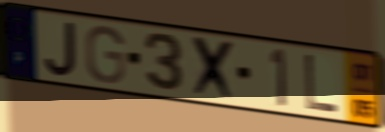1: (268, 46, 289, 110)
3: (141, 31, 186, 95)
G: (83, 24, 127, 86)
J: (43, 19, 79, 79)
L: (302, 51, 341, 116)
X: (190, 33, 238, 106)
